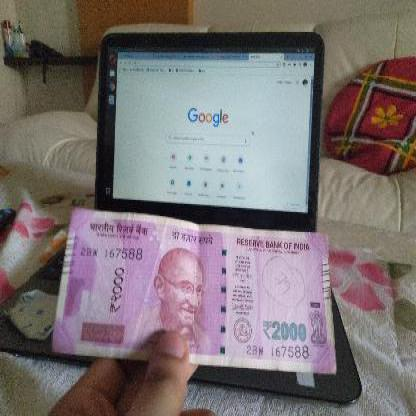New2000Front: (50, 210, 332, 366)
